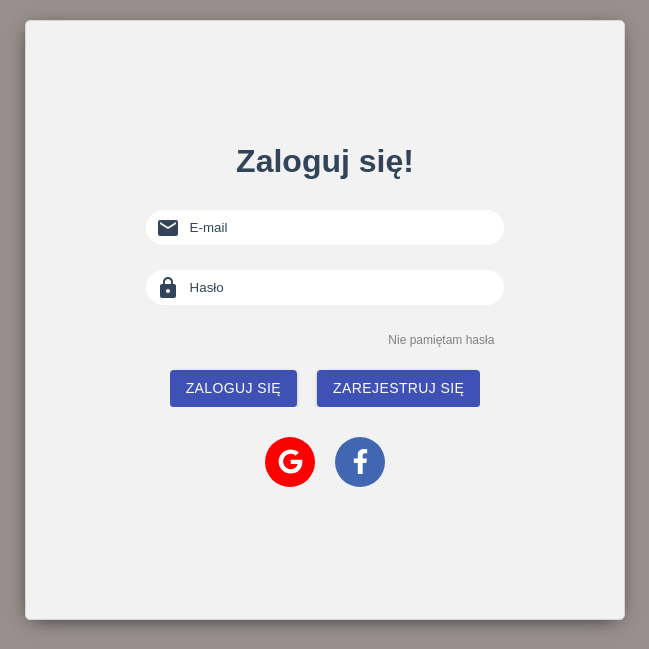
Test case: User registration into application in form › Should error for empty firstname
Click the link to "/registration".
click(399, 383)  # box [317,374,480,391]
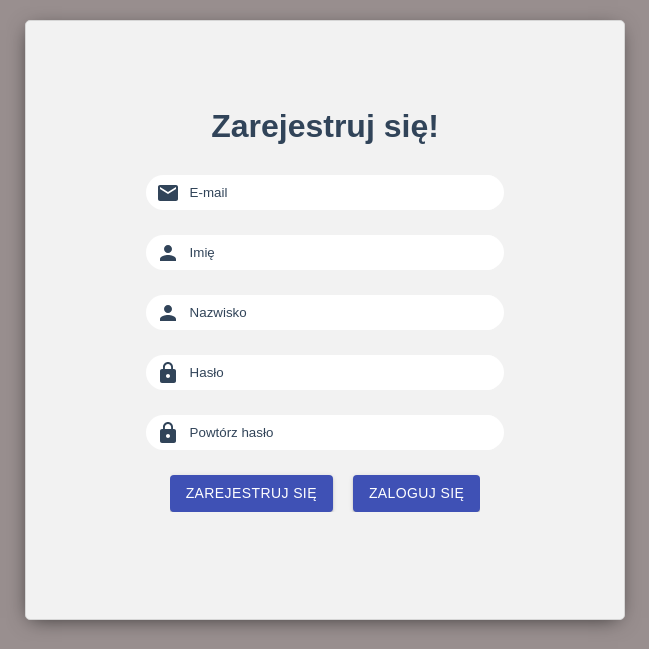
Now the heading "Zarejestruj się!" is shown, box [211,108,439,145]
Type "test@gmail.com" into the field named "email".
click(343, 193); type("test@gmail.com")  # box [190,175,495,210]
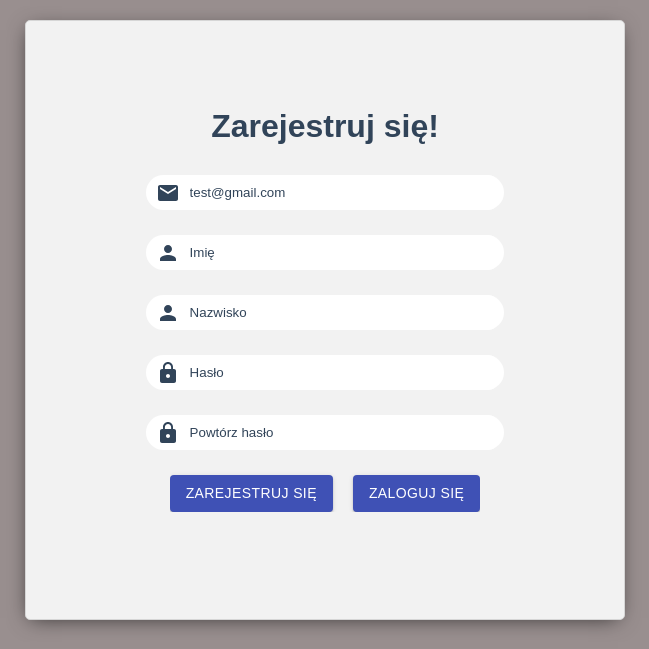
Type "test" into the field named "lastName".
click(343, 313); type("test")  # box [190,295,495,330]
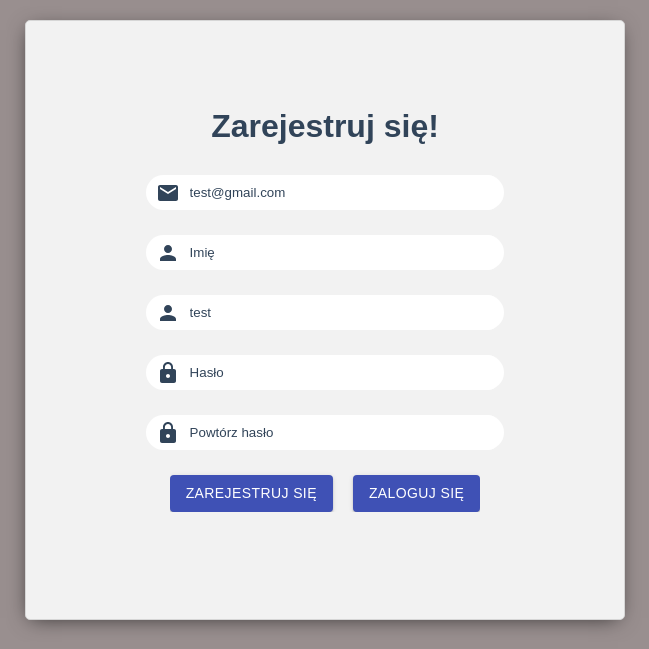
Type "12345678" into the password field named "password".
click(343, 373); type("12345678")  # box [190,355,495,390]
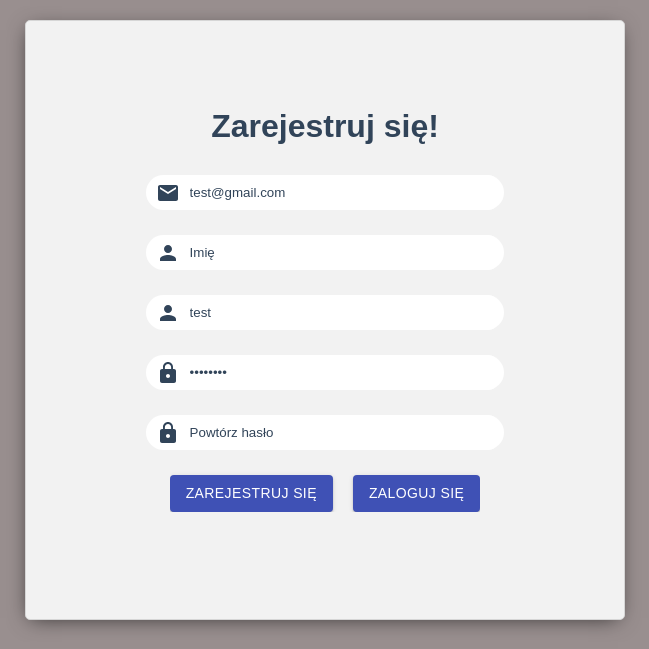
Type "12345678" into the password field named "passwordConfirm".
click(343, 433); type("12345678")  # box [190,415,495,450]
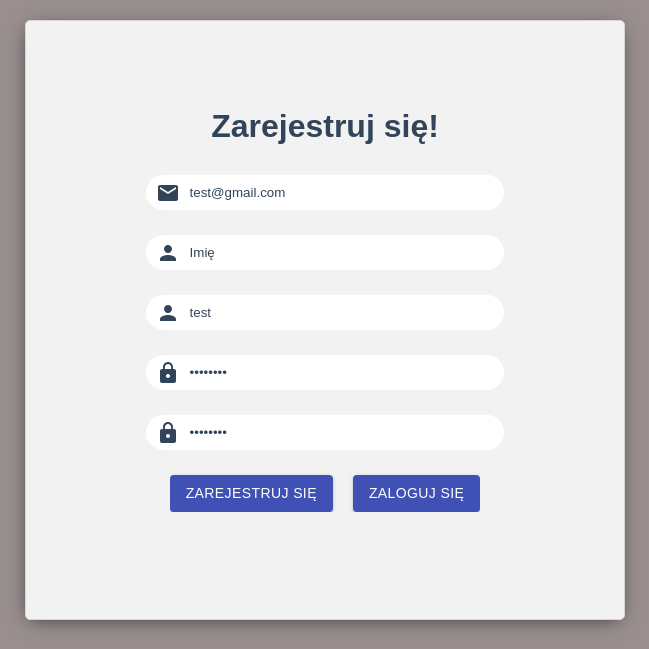
Click the submit button.
click(252, 494)  # box [170,475,333,512]
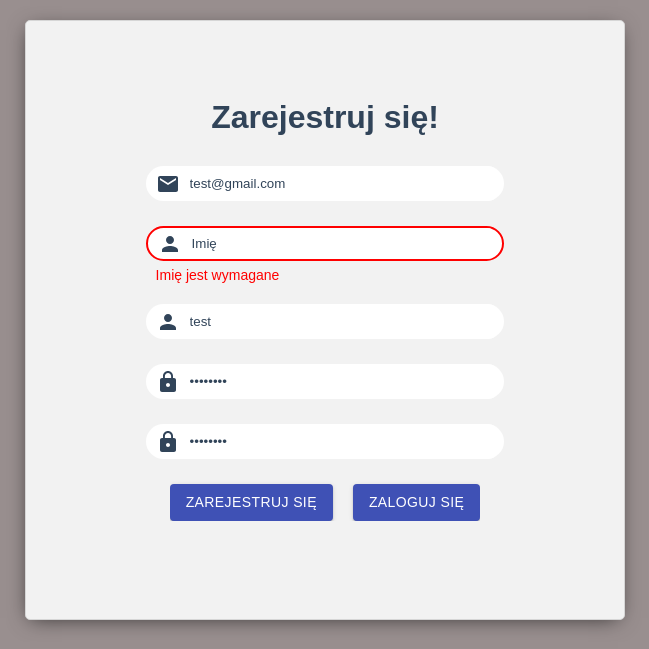
Now the text "Imię jest wymagane" is shown, box [146,267,279,283]
